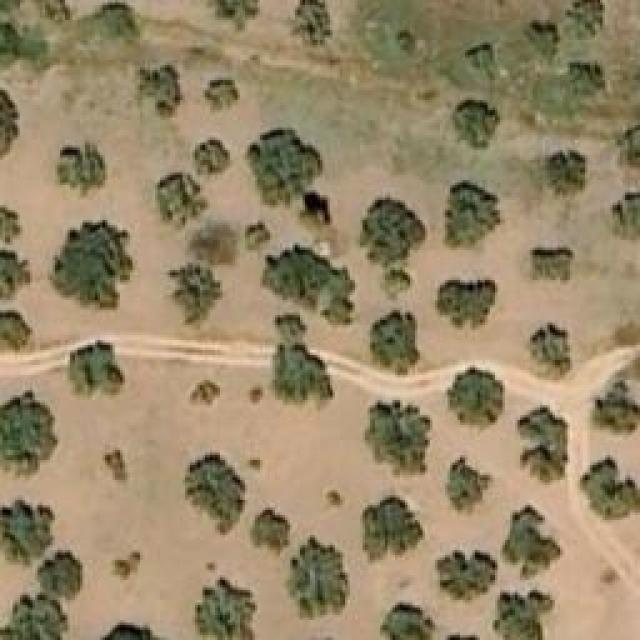Tree: (260, 245, 360, 325), (50, 218, 138, 308), (270, 315, 335, 410), (248, 127, 323, 205), (363, 400, 436, 478), (183, 453, 248, 536), (285, 538, 350, 621), (0, 390, 58, 483), (363, 488, 426, 563), (500, 505, 563, 580), (515, 403, 570, 486), (577, 452, 640, 522), (50, 342, 125, 400), (363, 195, 427, 261), (442, 180, 500, 248), (195, 577, 255, 640), (167, 263, 225, 328), (448, 367, 511, 425), (0, 500, 55, 565), (0, 590, 68, 640), (435, 278, 498, 331), (370, 310, 420, 375), (158, 172, 211, 230), (493, 590, 553, 640), (83, 0, 146, 47), (53, 145, 108, 198), (438, 550, 498, 598), (525, 322, 573, 380), (135, 63, 183, 118), (595, 380, 640, 433), (452, 100, 500, 148), (448, 458, 491, 511), (288, 0, 333, 48), (545, 150, 588, 195), (300, 193, 341, 240), (250, 507, 290, 555), (383, 605, 436, 640), (522, 20, 560, 65), (528, 248, 573, 283), (40, 552, 80, 590), (193, 137, 233, 175), (0, 250, 28, 303), (0, 83, 18, 158), (612, 192, 640, 240), (202, 78, 240, 113), (570, 0, 605, 38), (465, 42, 498, 80), (570, 63, 605, 98), (377, 263, 411, 299), (0, 310, 30, 350), (217, 0, 265, 25), (617, 122, 639, 169), (35, 0, 70, 25), (245, 220, 273, 250), (190, 377, 220, 405), (0, 205, 22, 242), (105, 448, 128, 483), (115, 550, 140, 580), (395, 25, 418, 49), (600, 567, 620, 585), (248, 385, 263, 405), (328, 490, 343, 505)
